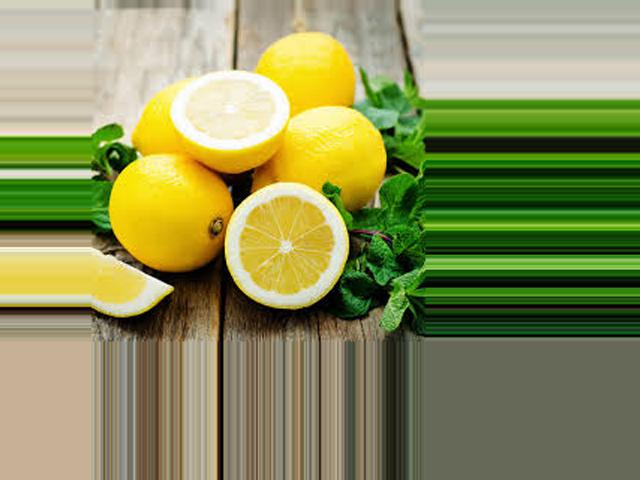lemon: (126, 79, 196, 162)
